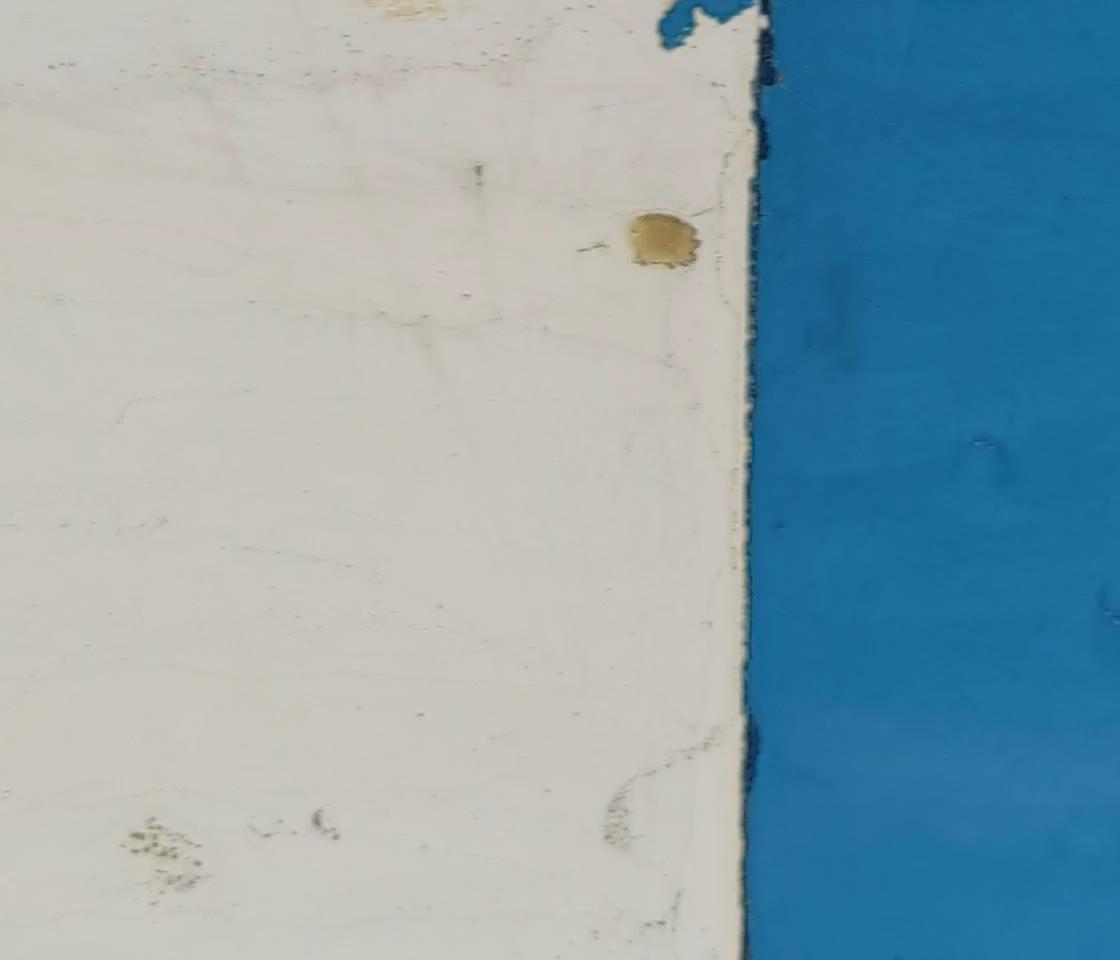paint_peel: (618, 205, 711, 274)
